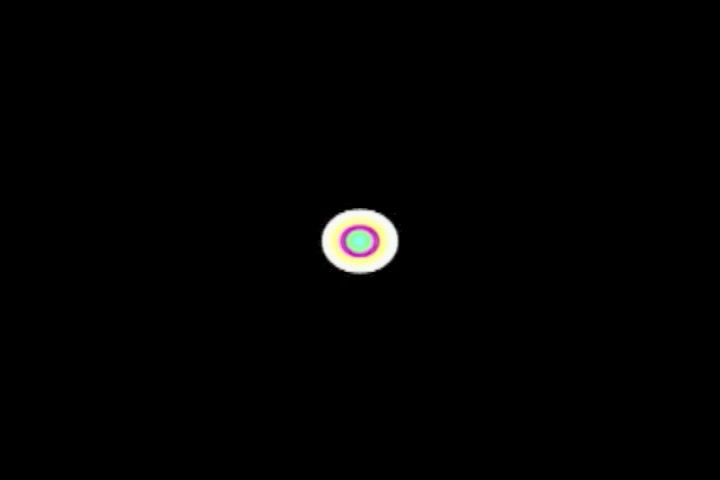ballCenter: (353, 237, 366, 248)
